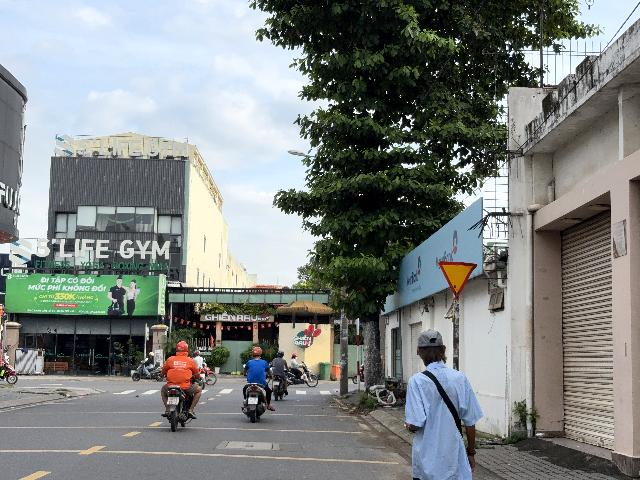giao-nhau-voi-duong-uu-tien: (438, 261, 478, 298)
